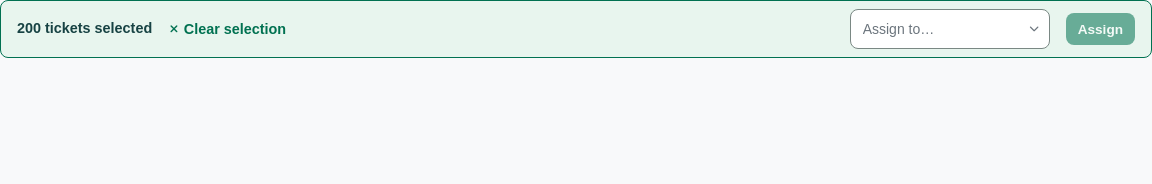
Test: a batch bigger than the server takes › sends a batch of exactly the limit
Press the mouse on the element named "Assign to" at [950, 29], box [850,9,1050,49]
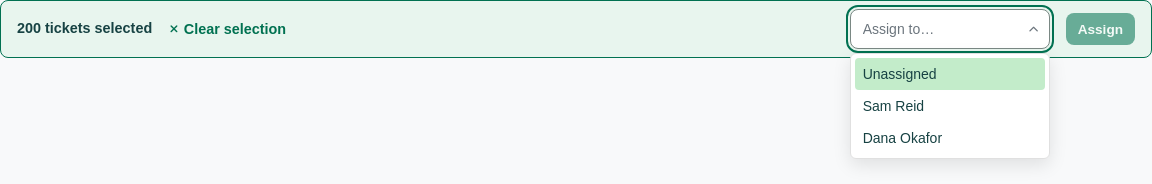
Press the mouse on the option "Sam Reid" at [893, 106], box [863,98,924,114]
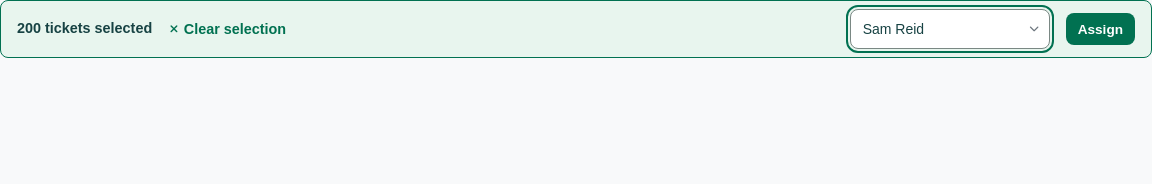
Expected: the button with class "bulk-assign__go" is enabled, [1066,13,1135,45]
